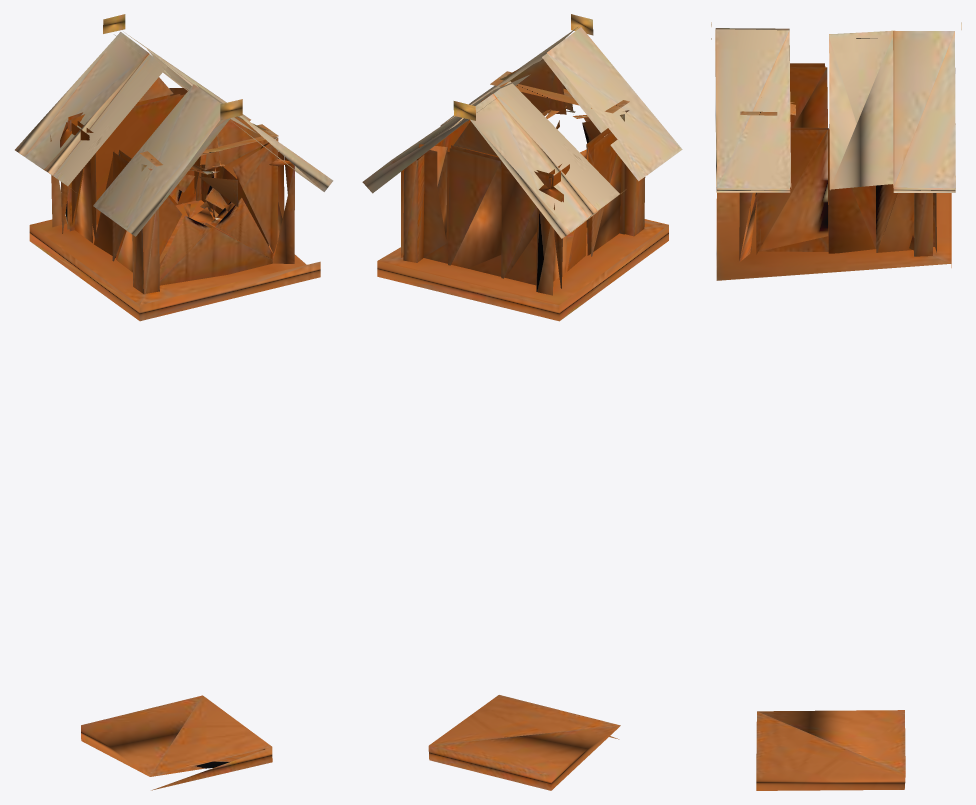
Rendered from bird-box.lod1.glb.
3 renders of one model, left to right at view 1: azimuth 30°, elevation 25°; view 2: azimuth 150°, elevation 25°; view 3: azimuth 270°, elevation 25°, orthographic. The views are drawn at different scales.
Parts seen in each view (by area): view 1: bird-box.001; view 2: bird-box.001; view 3: bird-box.001.
Part boxes in pixels (x1,y1,x2,y2): bird-box.001: (15,14,333,790); bird-box.001: (362,14,682,790); bird-box.001: (711,22,961,790).
Size of the model in its own units: 0.4404 by 1.4 by 0.4306.
1 material, 1 textured.
